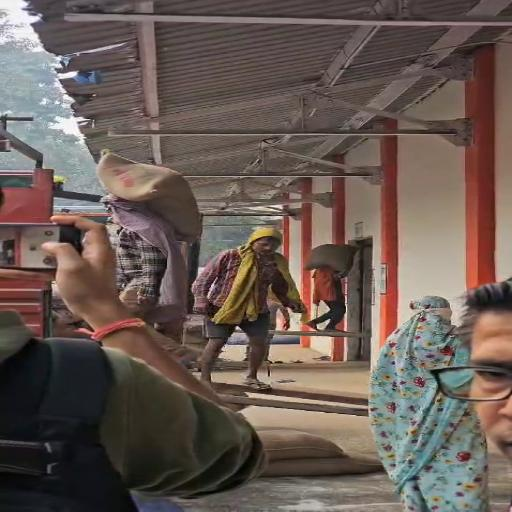bag: (93, 149, 212, 249)
